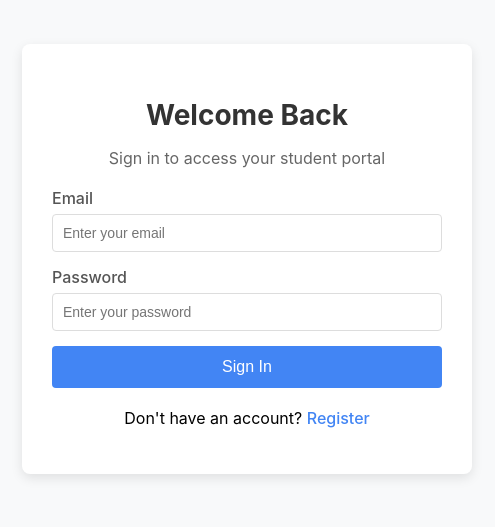
Test case: Login – failed submission › shows error message when login API throws
Type "wrong@test.com" into the field labelled "Email" at [247, 233], box [52, 214, 442, 252]
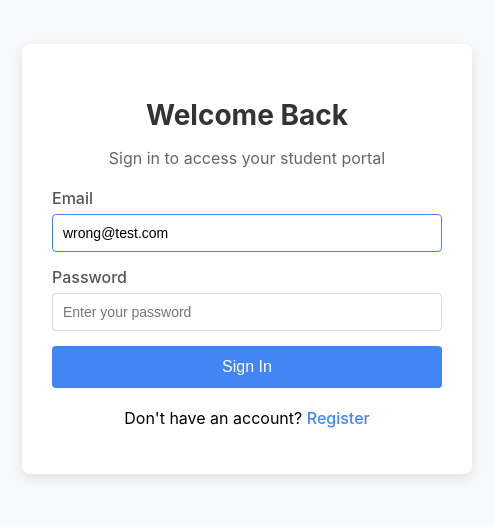
Type "wrongpass" into the password field labelled "Password" at [247, 312], box [52, 293, 442, 331]
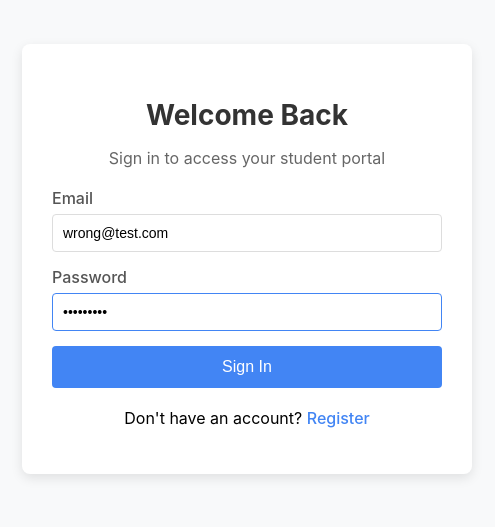
Submit the form "Email Password Sign In", box [52, 188, 442, 388]
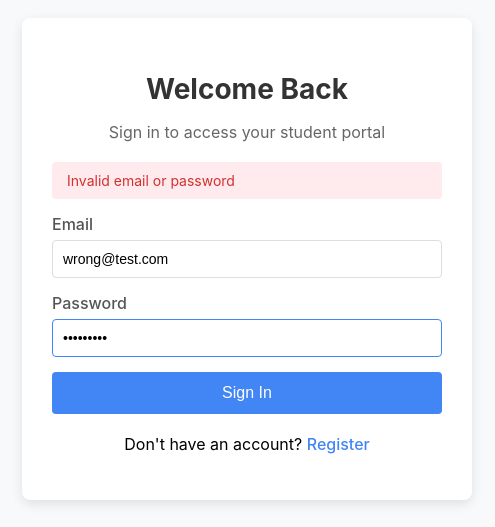
Check: the text "Invalid email or password" is shown, box [52, 162, 442, 199]
